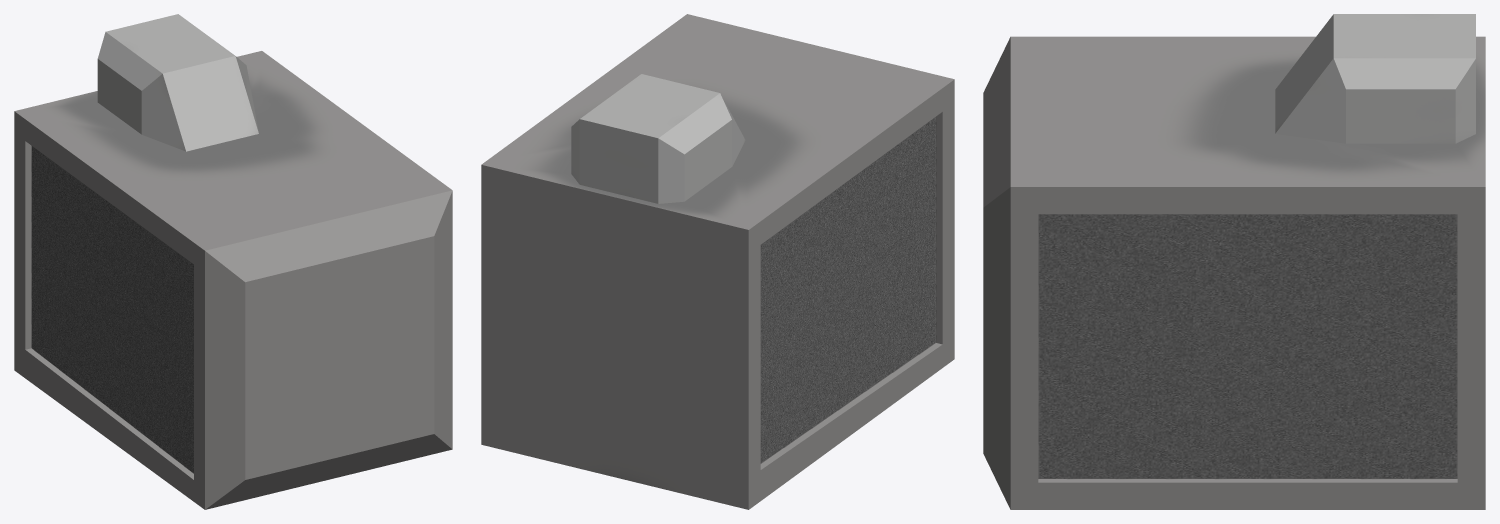
Rendered from radiator.obj.
3 views of the same model, side by side, from view 1: azimuth 30°, elevation 25°; view 2: azimuth 150°, elevation 25°; view 3: azimuth 270°, elevation 25° (orthographic). The views are drawn at different scales.
Parts seen in each view (by area): view 1: radiator002_Cube.001_Cube.000; view 2: radiator002_Cube.001_Cube.000; view 3: radiator002_Cube.001_Cube.000.
Boxes of the visible parts, bbox=[...] form: radiator002_Cube.001_Cube.000: bbox=[14, 14, 452, 509]; radiator002_Cube.001_Cube.000: bbox=[481, 14, 954, 509]; radiator002_Cube.001_Cube.000: bbox=[983, 14, 1485, 509].
Bounding box in the file's own units: 0.75 × 0.926 × 1.06.
